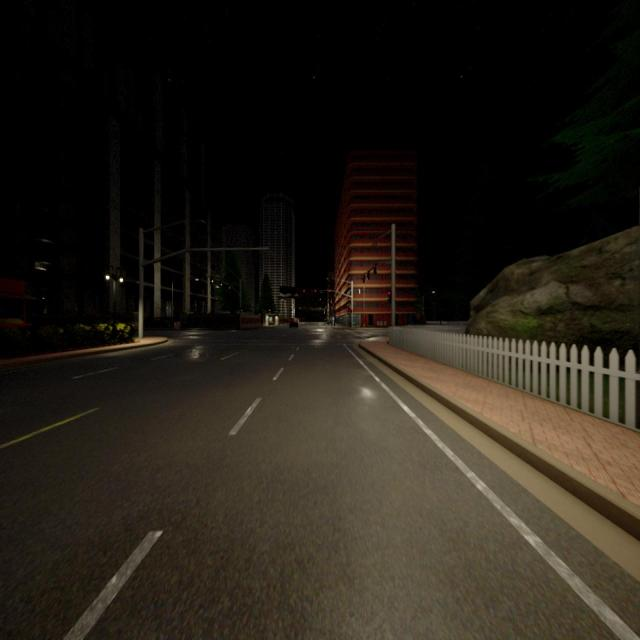Vehicle: (289, 321, 299, 329)
traffic_light: (387, 290, 392, 305), (372, 263, 377, 274), (210, 276, 214, 285), (366, 270, 369, 280), (219, 280, 222, 288), (362, 275, 364, 283), (228, 285, 230, 291), (328, 290, 330, 295), (303, 290, 305, 294), (314, 290, 316, 294), (351, 307, 352, 314), (240, 309, 242, 312)
